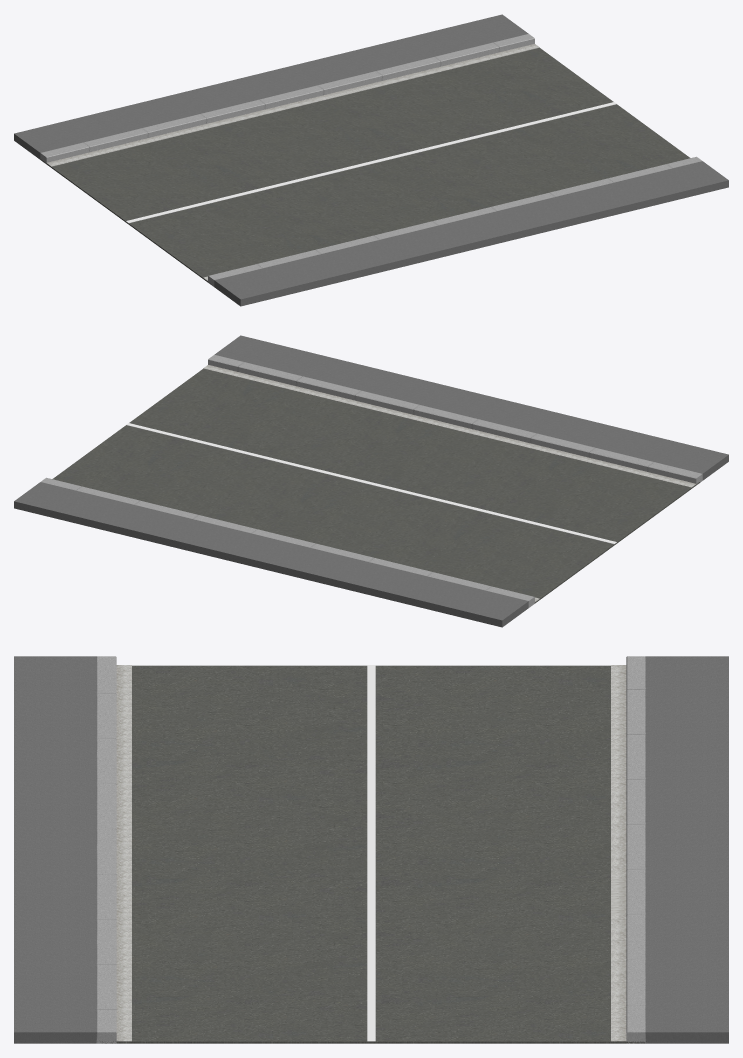
File: road.obj
3 renders of one model, top to bottom at view 1: azimuth 30°, elevation 25°; view 2: azimuth 150°, elevation 25°; view 3: azimuth 270°, elevation 25°, orthographic. The views are drawn at different scales.
Visible parts, largest first — view 1: road; view 2: road; view 3: road.
Boxes of the visible parts, x1,y1,x2,y2 form: road: (14, 14, 728, 306); road: (14, 335, 728, 627); road: (14, 656, 728, 1043).
Bounding box in the file's own units: 1300 × 18 × 1045.
